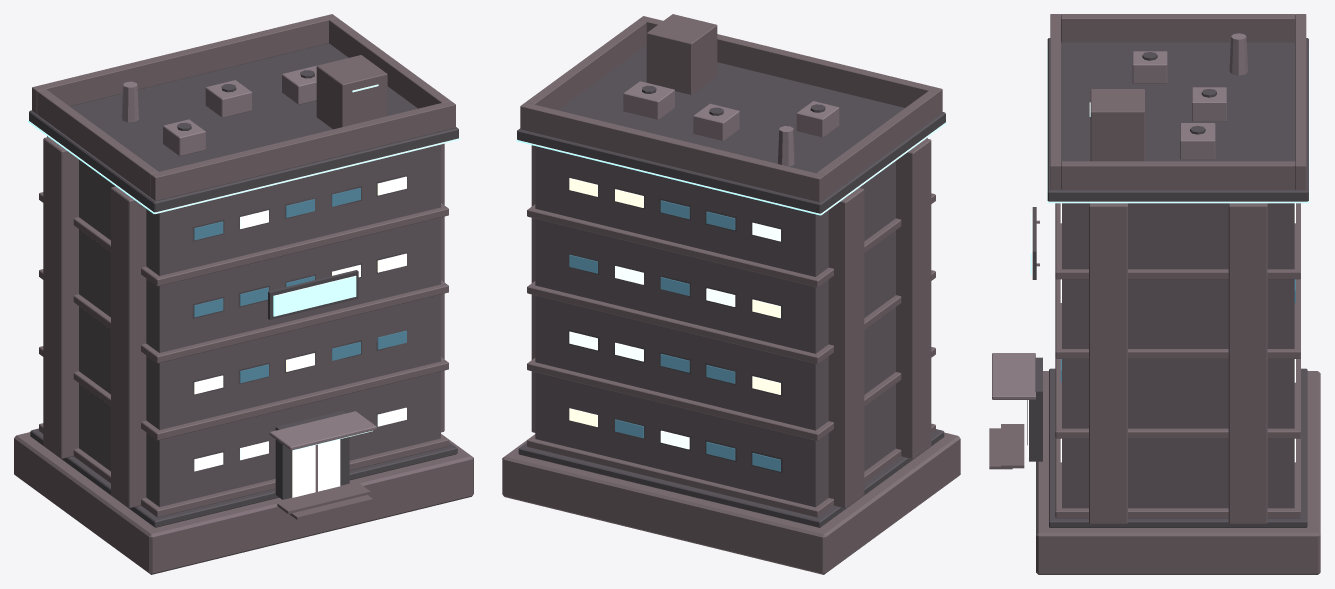
The model's file is operations_center.glb.
3 renders of one model, left to right at view 1: azimuth 30°, elevation 25°; view 2: azimuth 150°, elevation 25°; view 3: azimuth 270°, elevation 25°, orthographic. The views are drawn at different scales.
Visible parts, largest first — view 1: operations_center_Concrete@hardened, operations_center_Graphite@hardened, operations_center_DarkAlloy@hardened, operations_center_Steel@hardened, operations_center_WarmGlass, operations_center_BlackGlass, operations_center_Cyan, operations_center_CoolGlass; view 2: operations_center_Concrete@hardened, operations_center_Graphite@hardened, operations_center_DarkAlloy@hardened, operations_center_Steel@hardened, operations_center_BlackGlass, operations_center_CoolGlass, operations_center_WarmGlass, operations_center_Cyan; view 3: operations_center_Concrete@hardened, operations_center_Graphite@hardened, operations_center_DarkAlloy@hardened, operations_center_Steel@hardened, operations_center_Cyan.
Boxes of the visible parts, x1,y1,x2,y2 form: operations_center_Concrete@hardened: (14,14,473,574); operations_center_Graphite@hardened: (47,136,440,506); operations_center_DarkAlloy@hardened: (29,43,458,527); operations_center_Steel@hardened: (121,65,376,492); operations_center_WarmGlass: (194,176,406,497); operations_center_BlackGlass: (194,188,406,382); operations_center_Cyan: (27,84,460,450); operations_center_CoolGlass: (194,210,406,471); operations_center_Concrete@hardened: (502,14,960,574); operations_center_Graphite@hardened: (535,138,927,507); operations_center_DarkAlloy@hardened: (517,45,945,527); operations_center_Steel@hardened: (623,81,839,166); operations_center_BlackGlass: (569,200,780,471); operations_center_CoolGlass: (569,222,780,449); operations_center_WarmGlass: (569,178,780,426); operations_center_Cyan: (516,121,946,215); operations_center_Concrete@hardened: (989,14,1320,574); operations_center_Graphite@hardened: (1062,203,1294,508); operations_center_DarkAlloy@hardened: (1029,38,1308,527); operations_center_Steel@hardened: (992,33,1247,445); operations_center_Cyan: (1030,47,1309,274).
Bounding box in the file's own units: 15 × 18.5 × 12.8.
